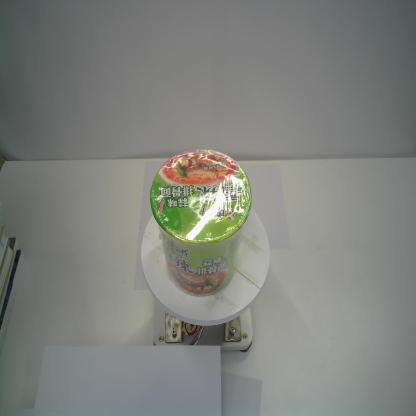Instant Noodles: (148, 147, 254, 299)
